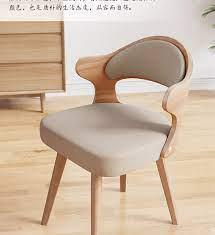chair: (29, 35, 197, 227)
